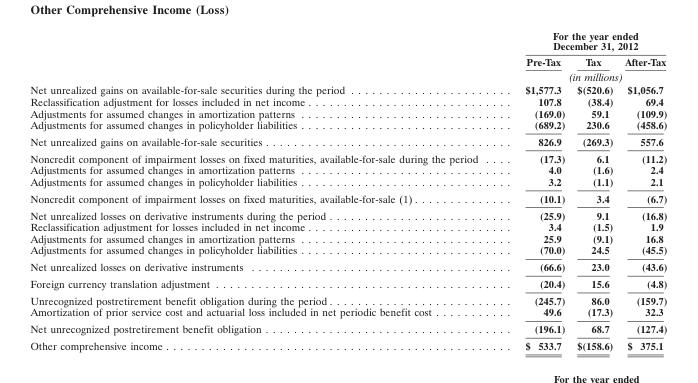table: (29, 29, 666, 351)
table column: (29, 29, 500, 351), (500, 29, 570, 351), (570, 29, 618, 351), (618, 29, 666, 351)
table column header: (29, 29, 666, 83)
table row: (29, 29, 666, 53), (29, 132, 666, 149), (29, 189, 666, 206), (29, 274, 666, 291), (29, 320, 666, 337), (29, 258, 666, 274), (29, 53, 666, 68), (29, 68, 666, 83), (29, 243, 666, 258), (29, 291, 666, 306), (29, 118, 666, 132), (29, 149, 666, 163), (29, 175, 666, 189), (29, 206, 666, 220), (29, 306, 666, 320), (29, 337, 666, 351), (29, 83, 666, 95), (29, 95, 666, 107), (29, 163, 666, 175), (29, 220, 666, 232), (29, 107, 666, 118), (29, 232, 666, 243)
table spanning cell: (500, 29, 666, 53), (500, 68, 666, 83)
